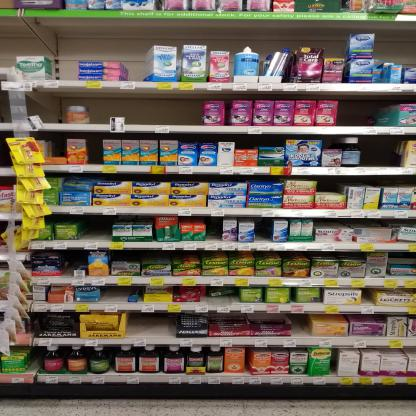Void: (127, 96, 201, 124), (130, 314, 170, 336), (34, 93, 62, 121), (368, 138, 397, 165), (343, 100, 371, 125), (128, 48, 149, 81), (92, 94, 110, 124), (84, 217, 105, 238), (54, 57, 76, 77), (206, 221, 222, 244), (319, 179, 341, 194), (89, 140, 102, 164), (48, 136, 63, 154), (257, 220, 270, 240), (109, 285, 124, 302), (292, 315, 305, 334)
